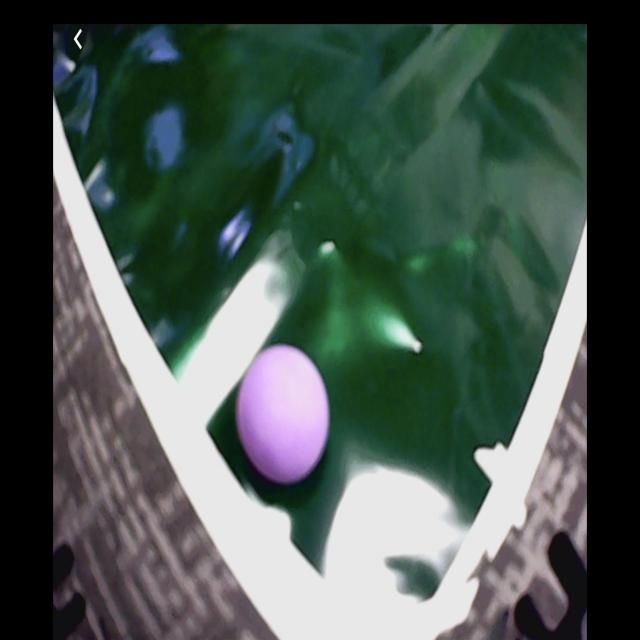ball: (238, 345, 331, 483)
